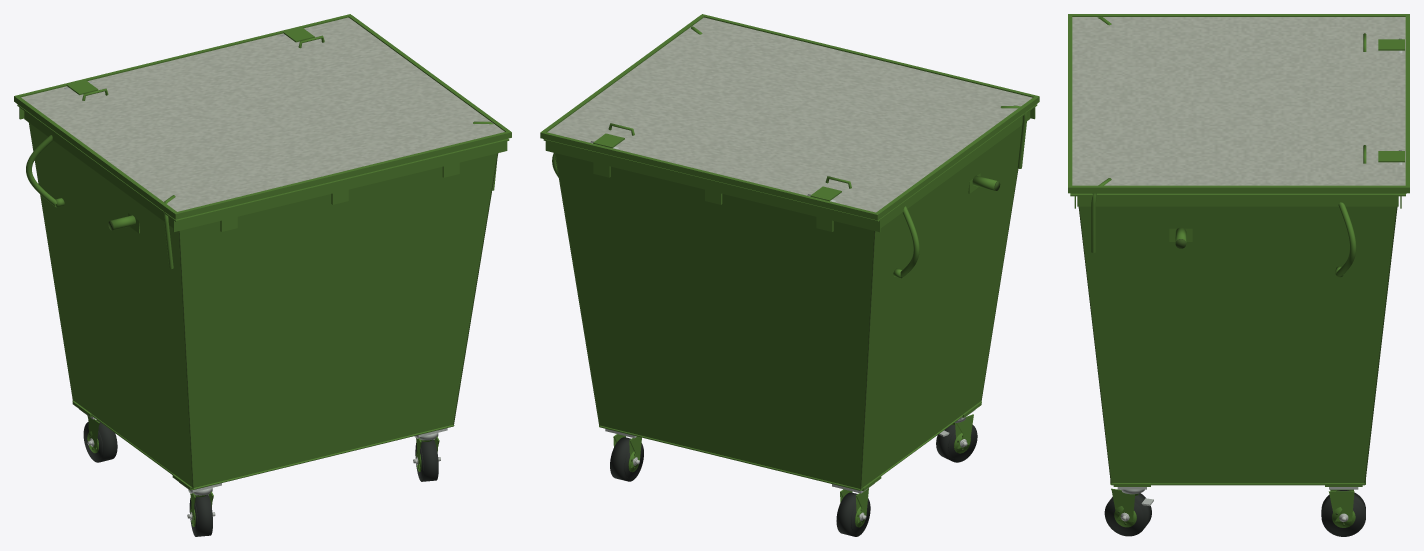
File: container.glb
3 views of the same model, side by side, from view 1: azimuth 30°, elevation 25°; view 2: azimuth 150°, elevation 25°; view 3: azimuth 270°, elevation 25° (orthographic). The views are drawn at different scales.
Parts seen in each view (by area): view 1: Корпус. Гладкие трапециевидные стенки 2 мм, Оцинкованный лист крышки, Уголок. Вертикальная полка спереди-сзади, Зеленый загиб крышки, Боковой загиб крышки, Уголок. Вертикальная боковая полка, Зеленый загиб крышки.001, Уголок. Горизонтальная полка спереди-сзади, Боковой загиб крышки.001, Нижняя кромка 0, Колесо 10. резиновый обод, Колесо 00. резиновый обод (+1 smaller); view 2: Корпус. Гладкие трапециевидные стенки 2 мм, Оцинкованный лист крышки, Уголок. Вертикальная полка спереди-сзади.001, Зеленый загиб крышки.001, Боковой загиб крышки, Уголок. Вертикальная боковая полка, Зеленый загиб крышки, Боковой загиб крышки.001, Уголок. Горизонтальная полка спереди-сзади.001, Колесо 11. резиновый обод, Колесо 01. резиновый обод, Нижняя кромка 2; view 3: Корпус. Гладкие трапециевидные стенки 2 мм, Оцинкованный лист крышки, Уголок. Вертикальная боковая полка.001, Боковой загиб крышки.001, Уголок. Горизонтальная боковая полка.001, Боковой загиб крышки, Зеленый загиб крышки, Зеленый загиб крышки.001, Колесо 11. вилка 1, Боковая изогнутая ручка.001, Колесо 11. резиновый обод, Нижняя кромка 1 (+6 smaller).
Boxes of the visible parts, x1,y1,x2,y2 form: Корпус. Гладкие трапециевидные стенки 2 мм: (29,123,497,487); Оцинкованный лист крышки: (21,17,504,211); Уголок. Вертикальная полка спереди-сзади: (173,141,507,231); Зеленый загиб крышки: (174,131,511,219); Боковой загиб крышки: (15,96,176,218); Уголок. Вертикальная боковая полка: (24,111,173,227); Зеленый загиб крышки.001: (14,14,350,101); Уголок. Горизонтальная полка спереди-сзади: (170,139,509,221); Боковой загиб крышки.001: (348,15,509,131); Нижняя кромка 0: (193,425,453,489); Колесо 10. резиновый обод: (415,439,438,481); Колесо 00. резиновый обод: (189,494,212,536); Корпус. Гладкие трапециевидные стенки 2 мм: (555,125,1022,488); Оцинкованный лист крышки: (547,17,1032,212); Уголок. Вертикальная полка спереди-сзади.001: (545,141,880,232); Зеленый загиб крышки.001: (540,131,878,220); Боковой загиб крышки: (876,97,1038,219); Уголок. Вертикальная боковая полка: (880,111,1030,227); Зеленый загиб крышки: (700,14,1039,102); Боковой загиб крышки.001: (542,15,703,132); Уголок. Горизонтальная полка спереди-сзади.001: (543,139,883,221); Колесо 11. резиновый обод: (610,437,643,481); Колесо 01. резиновый обод: (836,492,870,536); Нижняя кромка 2: (599,425,860,490); Корпус. Гладкие трапециевидные стенки 2 мм: (1079,206,1396,483); Оцинкованный лист крышки: (1072,17,1405,185); Уголок. Вертикальная боковая полка.001: (1077,196,1398,206); Боковой загиб крышки.001: (1071,185,1406,193); Уголок. Горизонтальная боковая полка.001: (1077,193,1398,196); Боковой загиб крышки: (1071,14,1406,16); Зеленый загиб крышки: (1068,14,1072,193); Зеленый загиб крышки.001: (1405,14,1409,193); Колесо 11. вилка 1: (1328,491,1354,521); Боковая изогнутая ручка.001: (1337,202,1356,276); Колесо 11. резиновый обод: (1321,490,1365,536); Нижняя кромка 1: (1111,483,1364,485).
Bounding box in the file's own units: 1.25 × 1.18 × 0.957.
6 materials, 1 textured.
